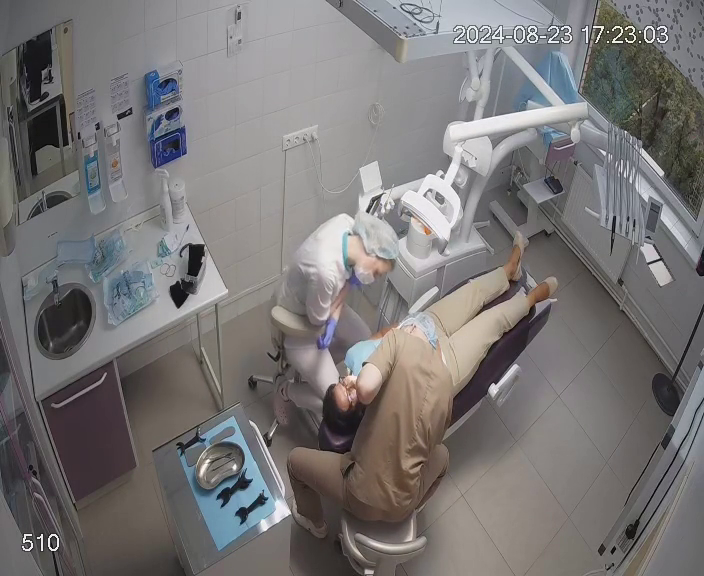Patient: (314, 232, 559, 450)
